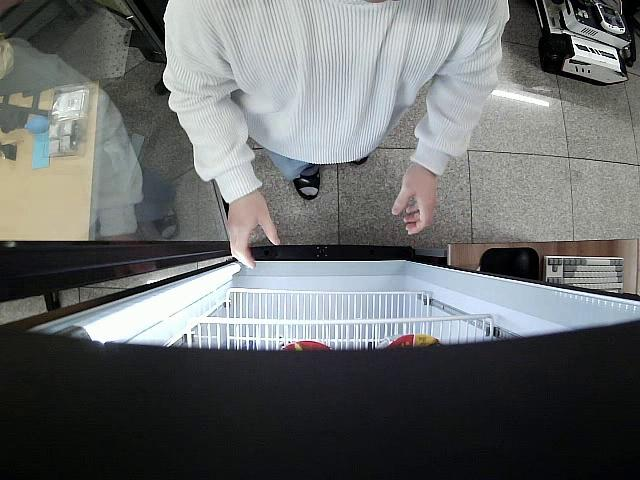00_hand: (227, 197, 281, 271), (391, 165, 436, 235)
